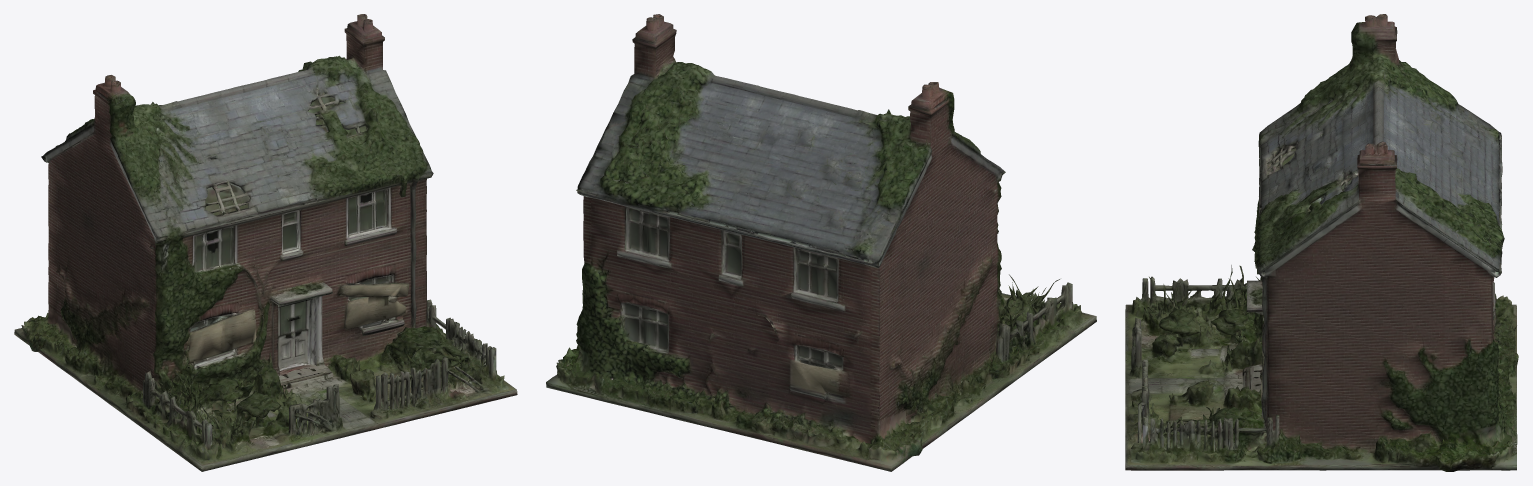
The model's file is building_farm.glb.
3 renders of one model, left to right at view 1: azimuth 30°, elevation 25°; view 2: azimuth 150°, elevation 25°; view 3: azimuth 270°, elevation 25°, orthographic. The views are drawn at different scales.
Parts seen in each view (by area): view 1: Mesh_0; view 2: Mesh_0; view 3: Mesh_0.
Part boxes in pixels (bbox=[...]): Mesh_0: bbox=[14, 14, 517, 471]; Mesh_0: bbox=[546, 14, 1096, 471]; Mesh_0: bbox=[1125, 14, 1518, 471].
Size of the model in its own units: 12.69 by 11 by 12.63.
1 material, 1 textured.
